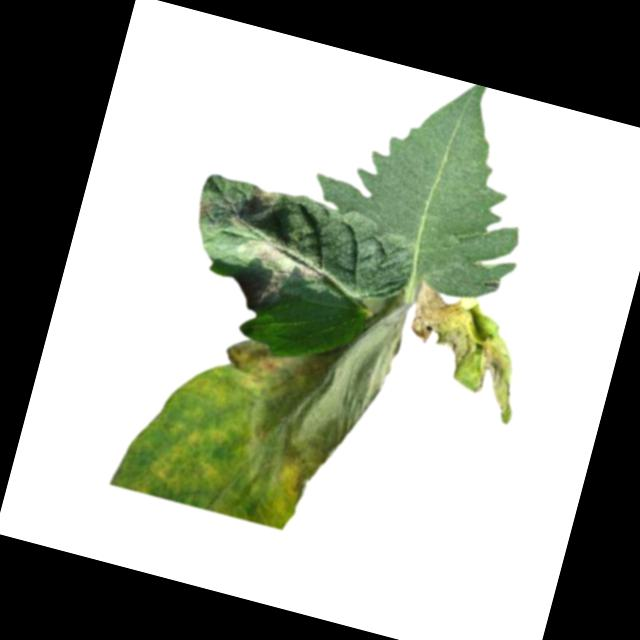Late_blight: (108, 235, 415, 549), (392, 280, 541, 427), (239, 235, 331, 281), (263, 266, 293, 302), (196, 195, 227, 223), (249, 184, 282, 210)
healthy: (297, 52, 560, 309)
